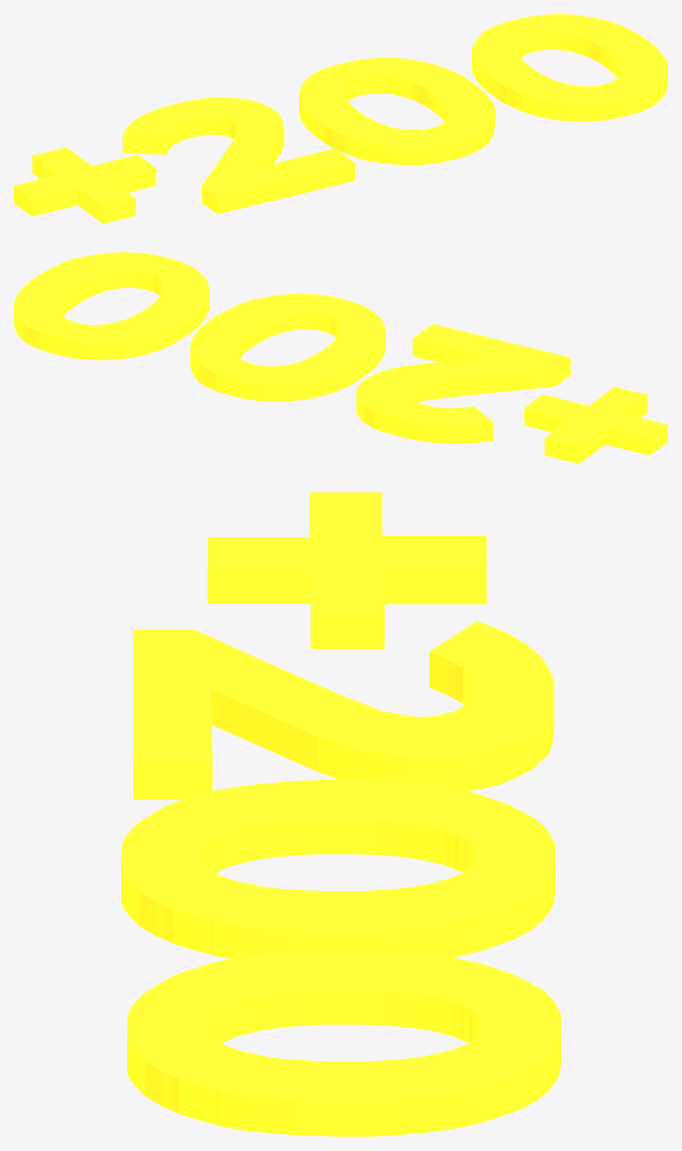
Rendered from plus200.fbx.
The picture shows the model from 3 angles, top to bottom: view 1: azimuth 30°, elevation 25°; view 2: azimuth 150°, elevation 25°; view 3: azimuth 270°, elevation 25°; orthographic projection. The views are drawn at different scales.
Parts seen in each view (by area): view 1: Plane.003, Plane.001, Plane.004, Empty.001; view 2: Plane.003, Plane.001, Plane.004, Empty.001; view 3: Plane.001, Plane.003, Plane.004, Empty.001.
Boxes of the visible parts, x1,y1,x2,y2 form: Plane.003: (299, 57, 494, 165); Plane.001: (472, 14, 667, 121); Plane.004: (122, 97, 354, 214); Empty.001: (14, 147, 156, 223); Plane.003: (190, 293, 385, 401); Plane.001: (14, 252, 209, 360); Plane.004: (356, 324, 570, 443); Empty.001: (524, 387, 667, 463); Plane.001: (127, 950, 560, 1136); Plane.003: (121, 780, 554, 958); Plane.004: (133, 621, 554, 799); Empty.001: (207, 492, 486, 648).
Bounding box in the file's own units: 177 × 580 × 15.76.
